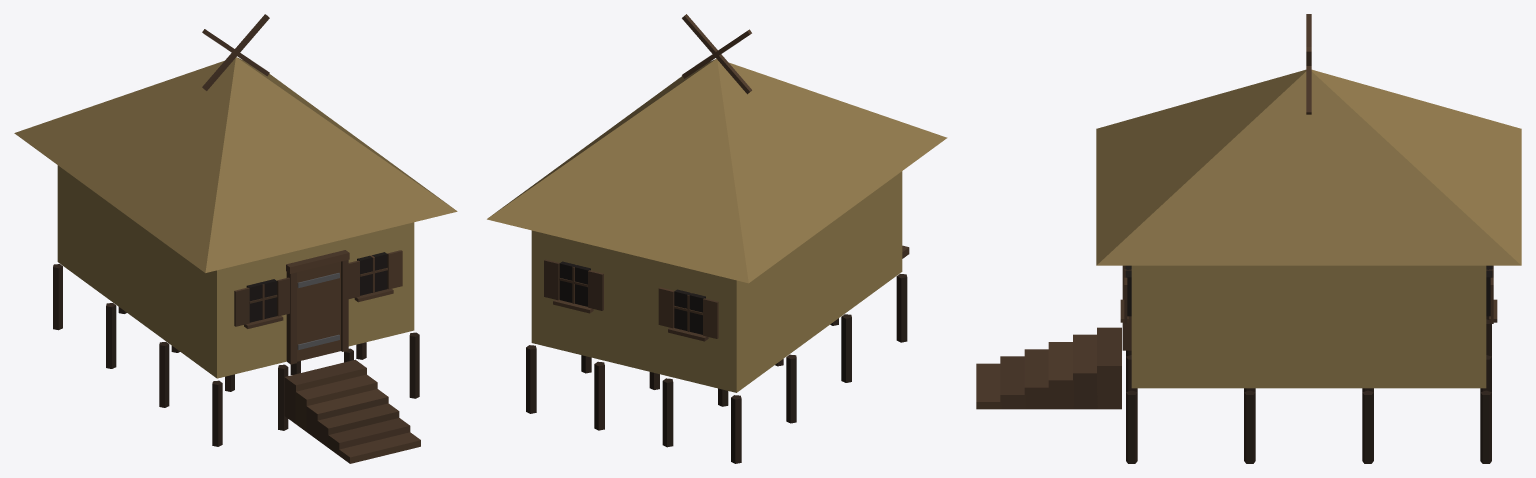
Rendered from walk_tidebound_row.glb.
3 renders of one model, left to right at view 1: azimuth 30°, elevation 25°; view 2: azimuth 150°, elevation 25°; view 3: azimuth 270°, elevation 25°, orthographic. The views are drawn at different scales.
Visible parts, largest first — view 1: walk_tidebound_row, walk_tidebound_row_roof; view 2: walk_tidebound_row_roof, walk_tidebound_row; view 3: walk_tidebound_row_roof, walk_tidebound_row.
Part boxes in pixels (<box>): walk_tidebound_row: <box>53,165,420,463</box>; walk_tidebound_row_roof: <box>14,14,457,272</box>; walk_tidebound_row_roof: <box>487,14,947,283</box>; walk_tidebound_row: <box>526,171,909,463</box>; walk_tidebound_row_roof: <box>1096,14,1521,265</box>; walk_tidebound_row: <box>976,265,1497,463</box>.
Size of what is drawn, in the model's own units: 6.4 by 8.24 by 10.77.
Materials: 2 (2 with a texture image).
